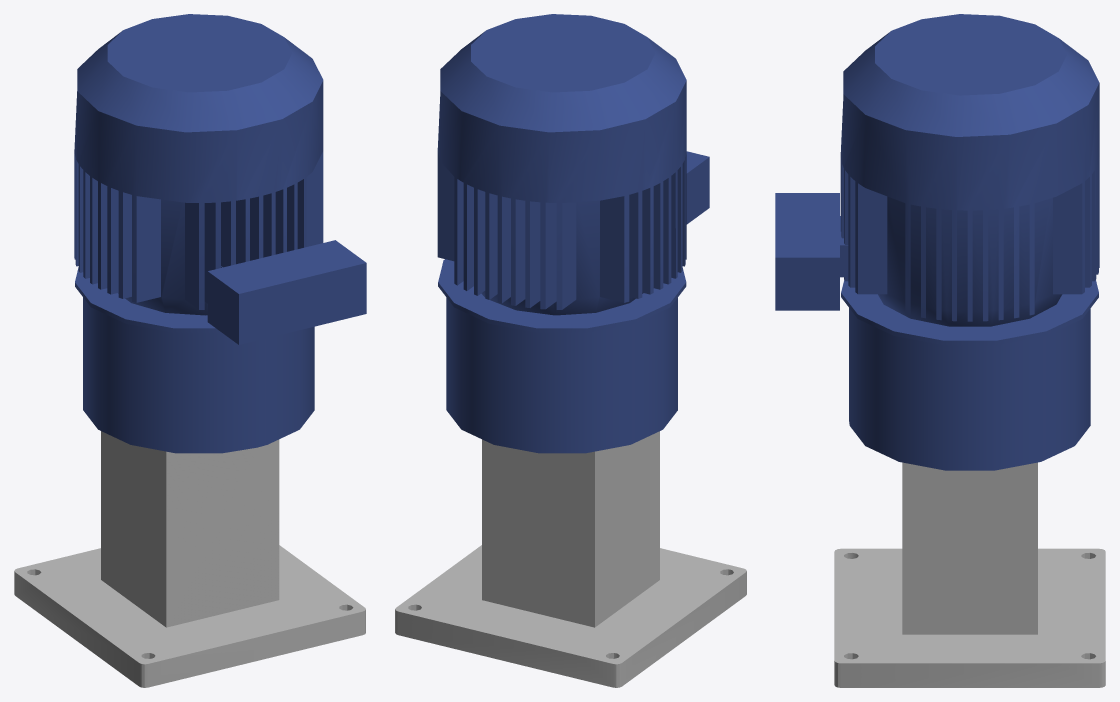
Rendered from pump_export.glb.
The picture shows the model from 3 angles, left to right: view 1: azimuth 30°, elevation 25°; view 2: azimuth 150°, elevation 25°; view 3: azimuth 270°, elevation 25°; orthographic projection. The views are drawn at different scales.
Visible parts, largest first — view 1: pump1; view 2: pump1; view 3: pump1.
Part boxes in pixels (x1,y1,x2,y2): pump1: (14, 14, 366, 687); pump1: (395, 14, 746, 687); pump1: (775, 14, 1105, 687).
Bounding box in the file's own units: 0.4539 × 1.05 × 0.5444.
